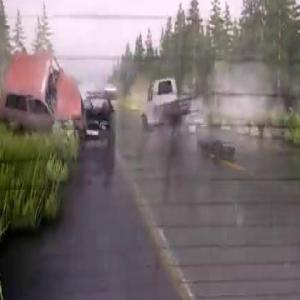fatal: (0, 44, 117, 157)
